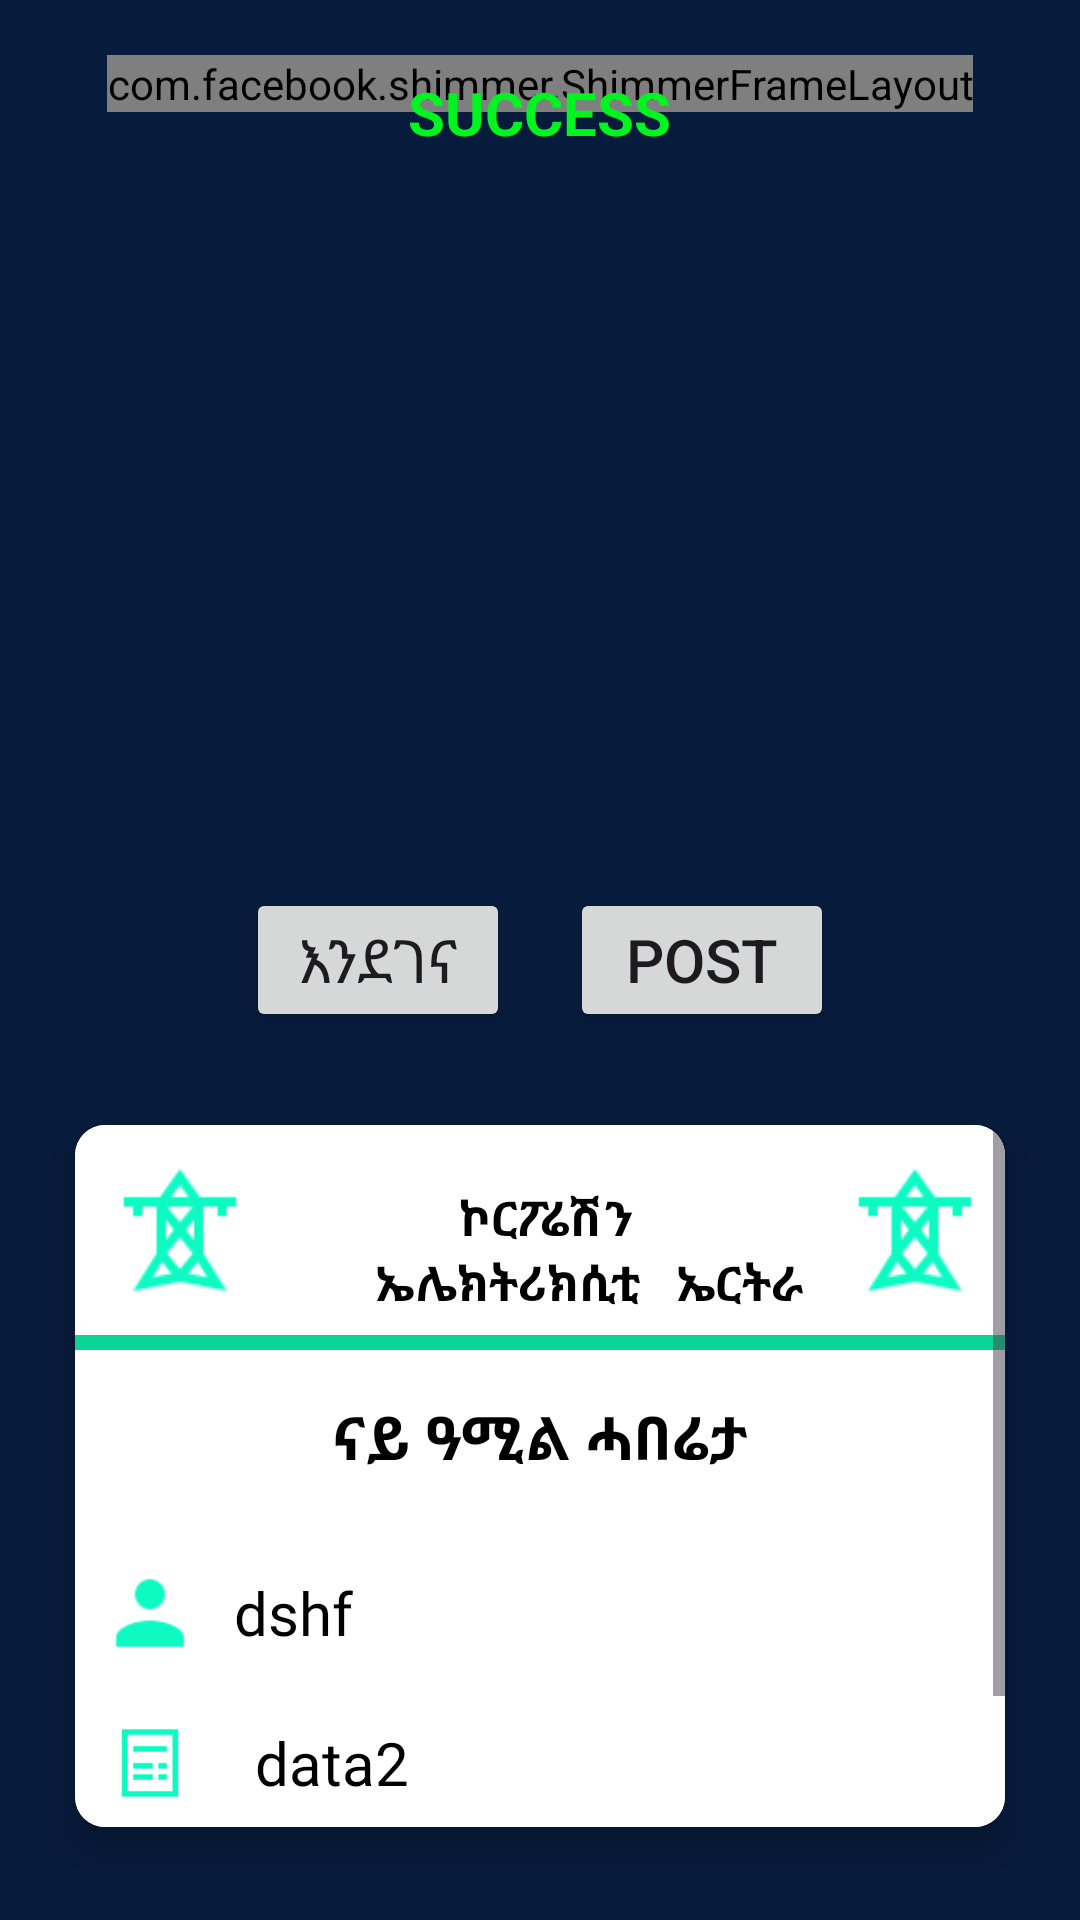

Icon click points for this 1080px x 1920px phone screenshot, format (x=x, y=y):
bill: (x=150, y=1763)
tower one: (x=180, y=1230), (x=915, y=1230)
user: (x=150, y=1613)
